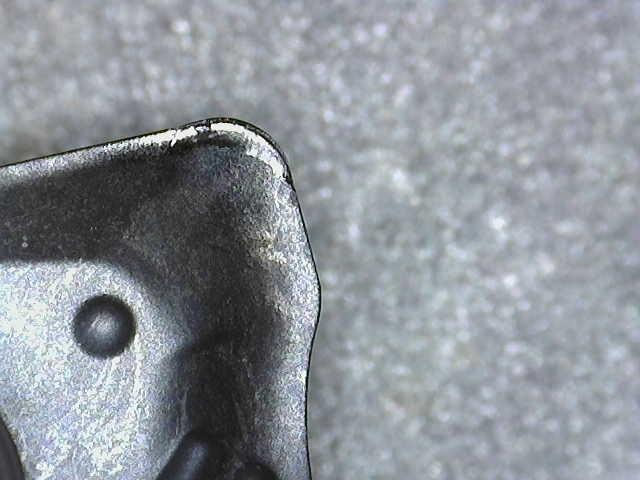normal: (283, 201, 328, 479), (0, 134, 174, 194)
wear: (143, 114, 297, 206)
